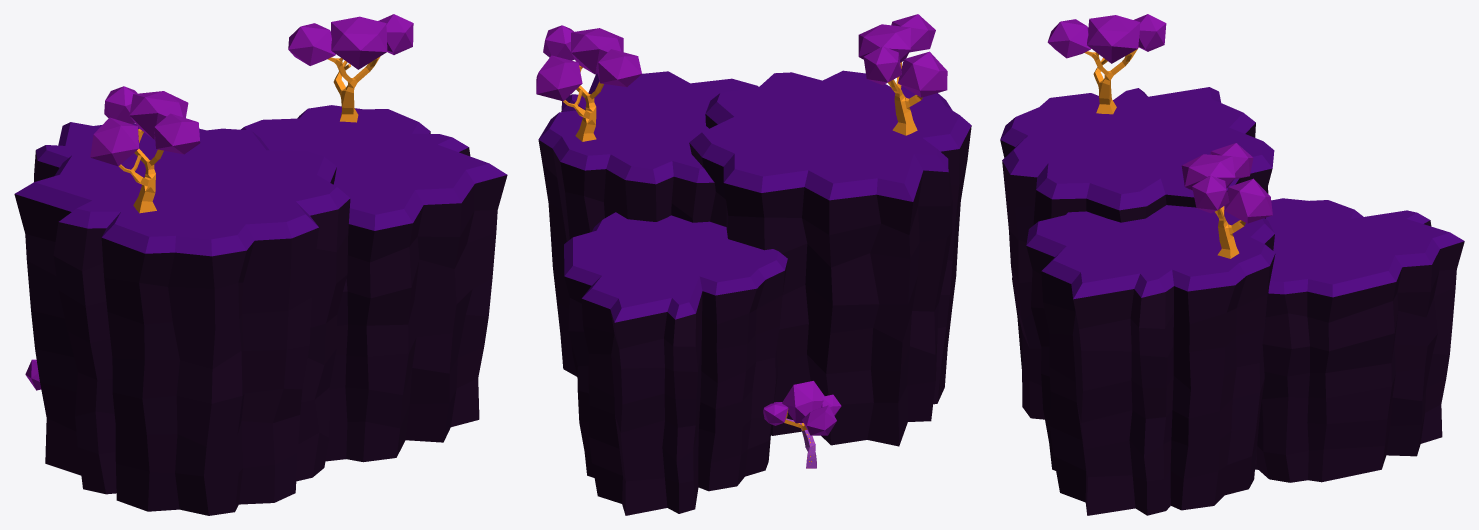
Rendered from mountians.fbx.
3 views of the same model, side by side, from view 1: azimuth 30°, elevation 25°; view 2: azimuth 150°, elevation 25°; view 3: azimuth 270°, elevation 25° (orthographic). The views are drawn at different scales.
Visible parts, largest first — view 1: Cone.002; view 2: Cone.002; view 3: Cone.002.
Part boxes in pixels (box(x1,y1,x2,y2)): Cone.002: box(14, 14, 507, 515); Cone.002: box(536, 14, 971, 515); Cone.002: box(1000, 14, 1464, 515).
Bounding box in the file's own units: 2109 × 1969 × 2218.
